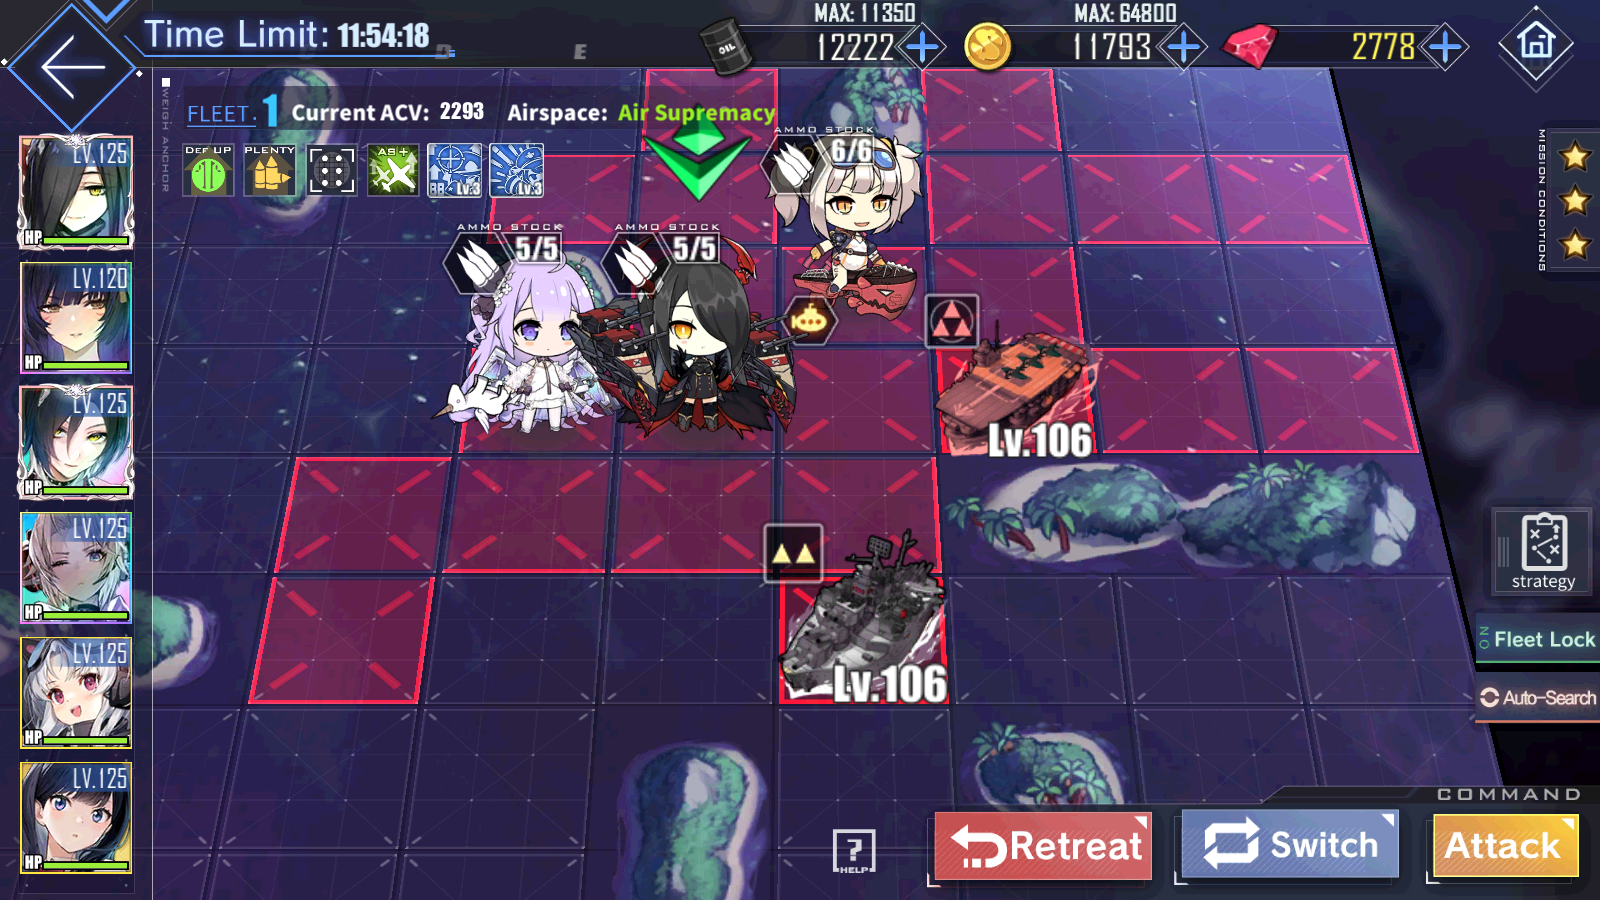enemy: (763, 524, 947, 704), (925, 292, 1095, 457)
